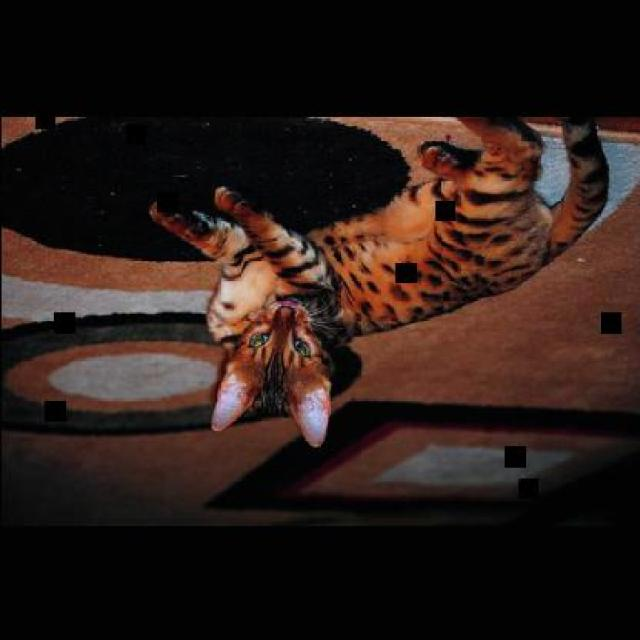unauthorized: (146, 110, 609, 448)
